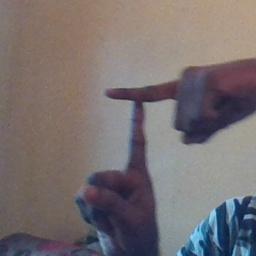T: (95, 64, 199, 187)
